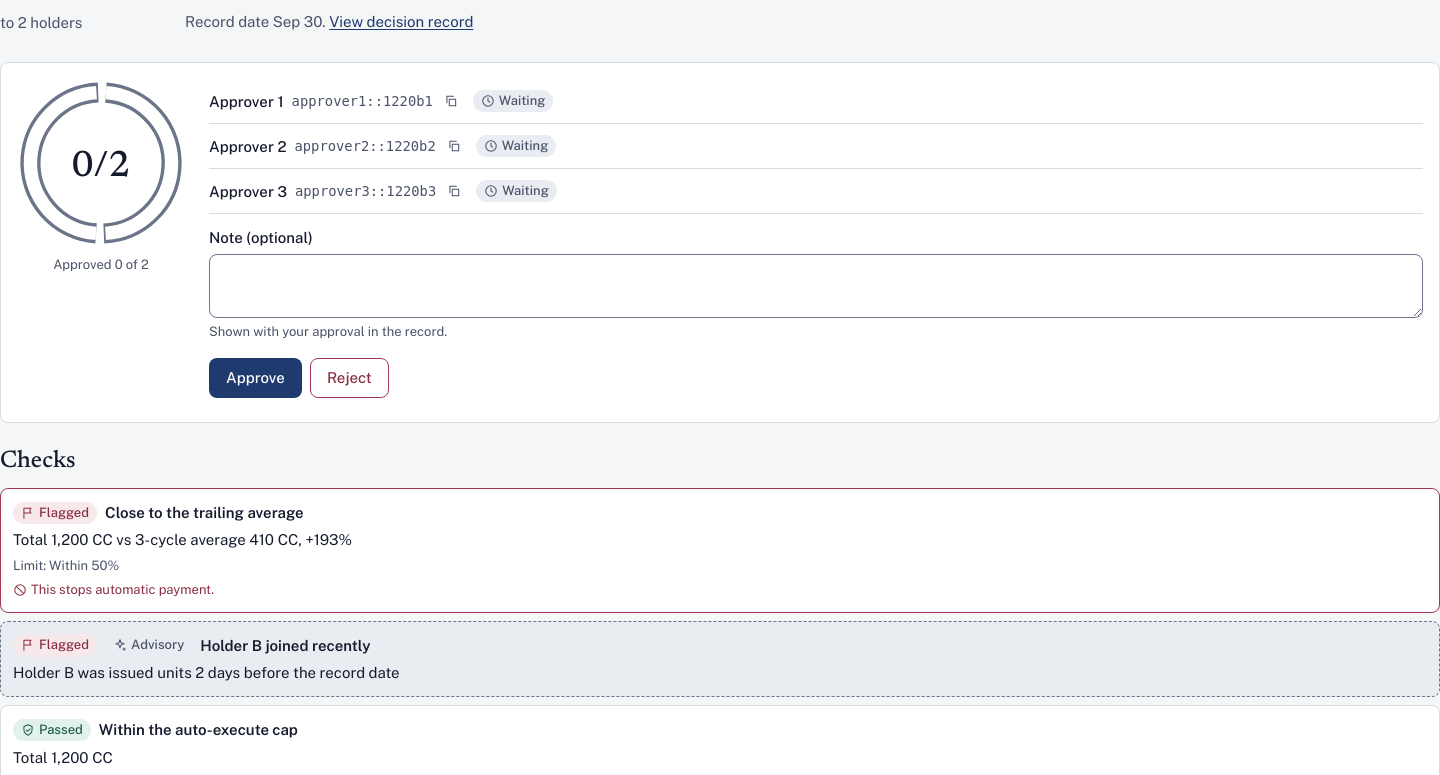
Test: cycle page › shows the ledger's refusal in place when approving fails
(page scrolled)
Click the button "Approve" at coordinates (255, 378), box [209,358,302,398]
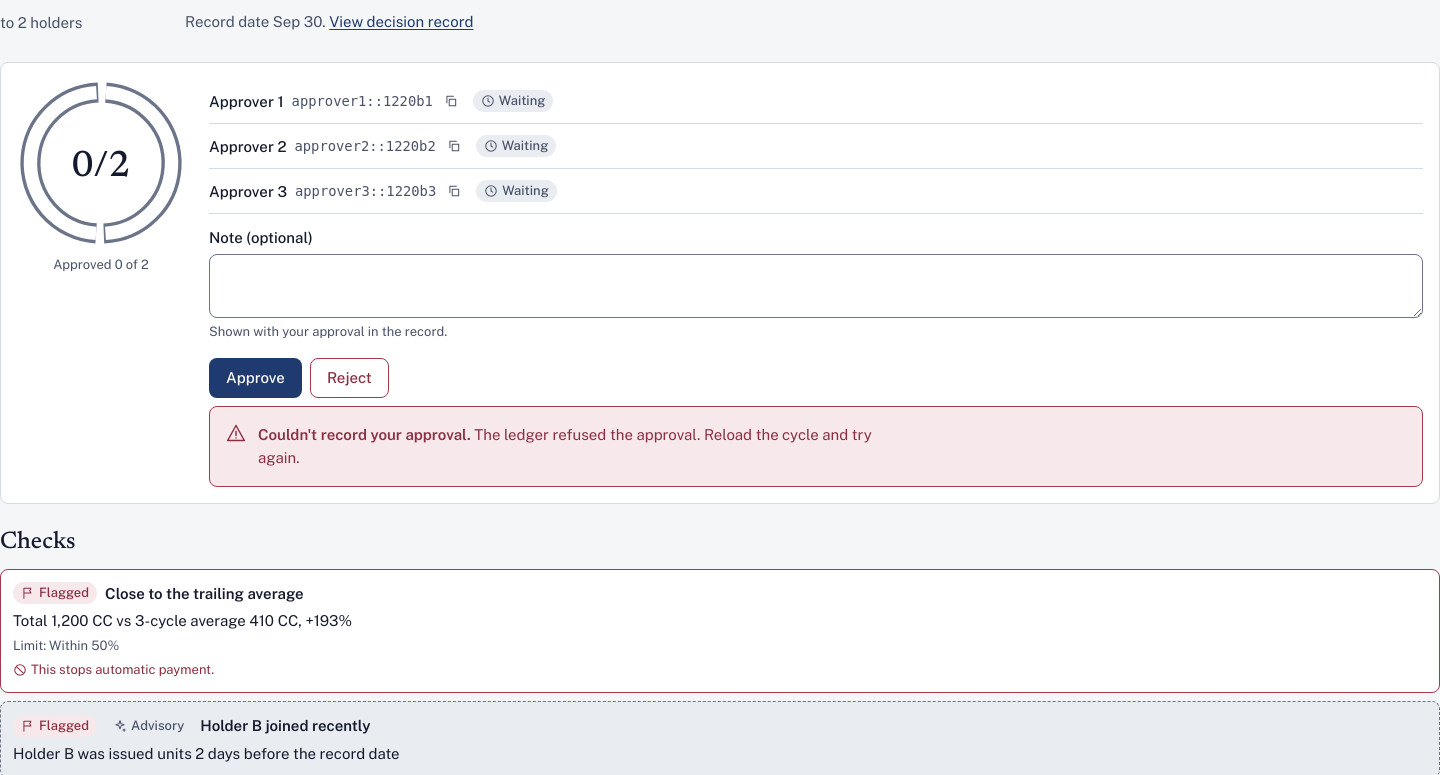
Expected: the picture named "0 of 2 signatures" is shown, [17,79,185,247]
Expected: the text "The ledger refused the approval" is shown, [258,426,872,466]
